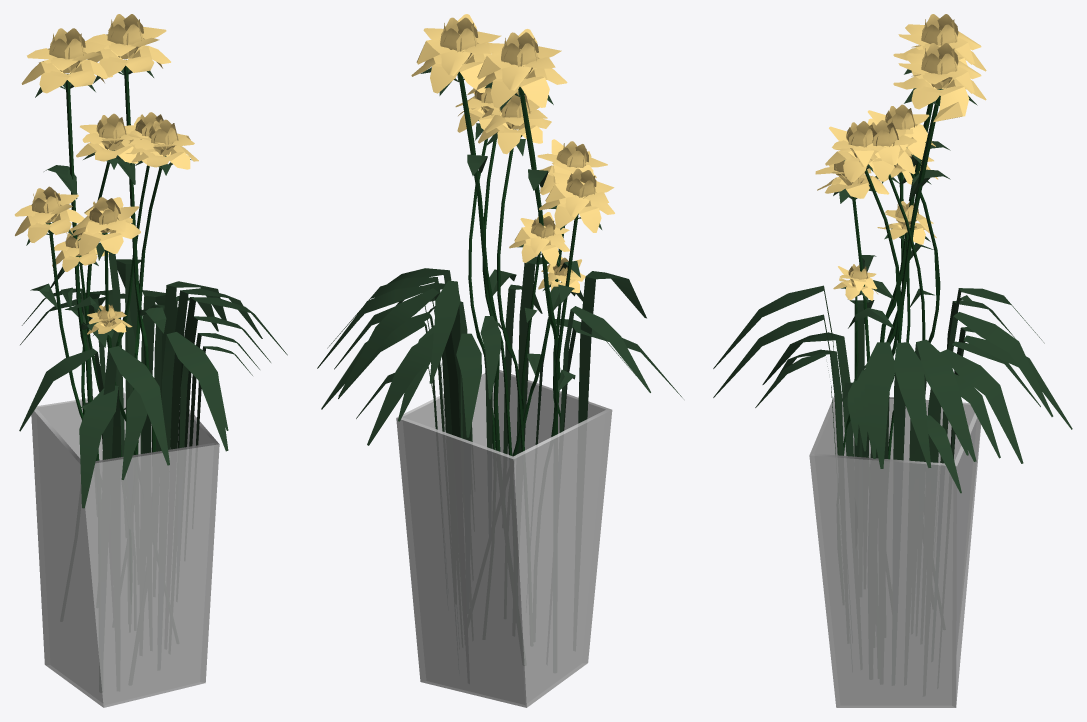
File: flowers.obj
The picture shows the model from 3 angles, left to right: view 1: azimuth 30°, elevation 25°; view 2: azimuth 150°, elevation 25°; view 3: azimuth 270°, elevation 25°; orthographic projection. The views are drawn at different scales.
Parts seen in each view (by area): view 1: mbvase, mbleaf, mbflower, mbstems; view 2: mbvase, mbleaf, mbflower, mbstems; view 3: mbvase, mbleaf, mbflower, mbstems.
Boxes of the visible parts, x1=… form: mbvase: x1=31, y1=392, x2=219, y2=707; mbleaf: x1=19, y1=68, x2=287, y2=508; mbflower: x1=14, y1=14, x2=198, y2=334; mbstems: x1=48, y1=60, x2=161, y2=460; mbvase: x1=396, y1=370, x2=612, y2=707; mbleaf: x1=317, y1=67, x2=682, y2=454; mbflower: x1=411, y1=14, x2=614, y2=292; mbstems: x1=458, y1=71, x2=578, y2=456; mbvase: x1=809, y1=394, x2=981, y2=707; mbleaf: x1=713, y1=69, x2=1072, y2=493; mbflower: x1=815, y1=14, x2=986, y2=300; mbstems: x1=843, y1=89, x2=940, y2=459.
Size of the model in its own units: 11.47 by 24.94 by 12.58.
